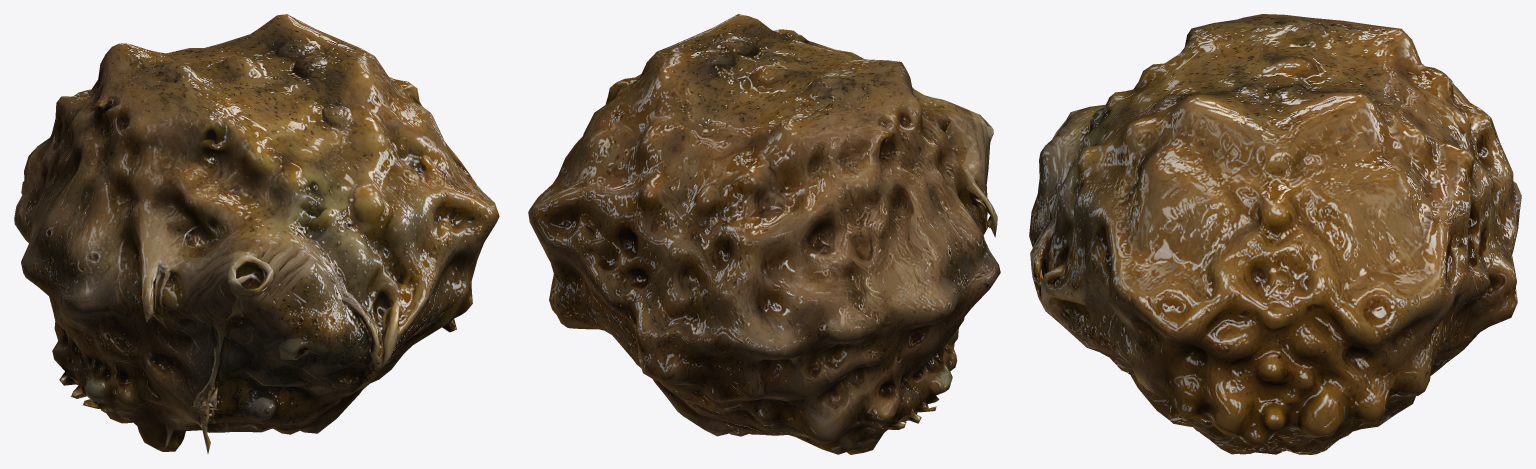
File: sample_sewage.fbx
3 renders of one model, left to right at view 1: azimuth 30°, elevation 25°; view 2: azimuth 150°, elevation 25°; view 3: azimuth 270°, elevation 25°, orthographic. The views are drawn at different scales.
Parts seen in each view (by area): view 1: input; view 2: input; view 3: input.
Part boxes in pixels (box(x1,y1,x2,y2)): input: box(14, 14, 499, 453); input: box(528, 14, 1000, 454); input: box(1029, 14, 1521, 454).
Size of the model in its own units: 97.19 by 86.44 by 99.38.
Materials: 1 (1 with a texture image).
